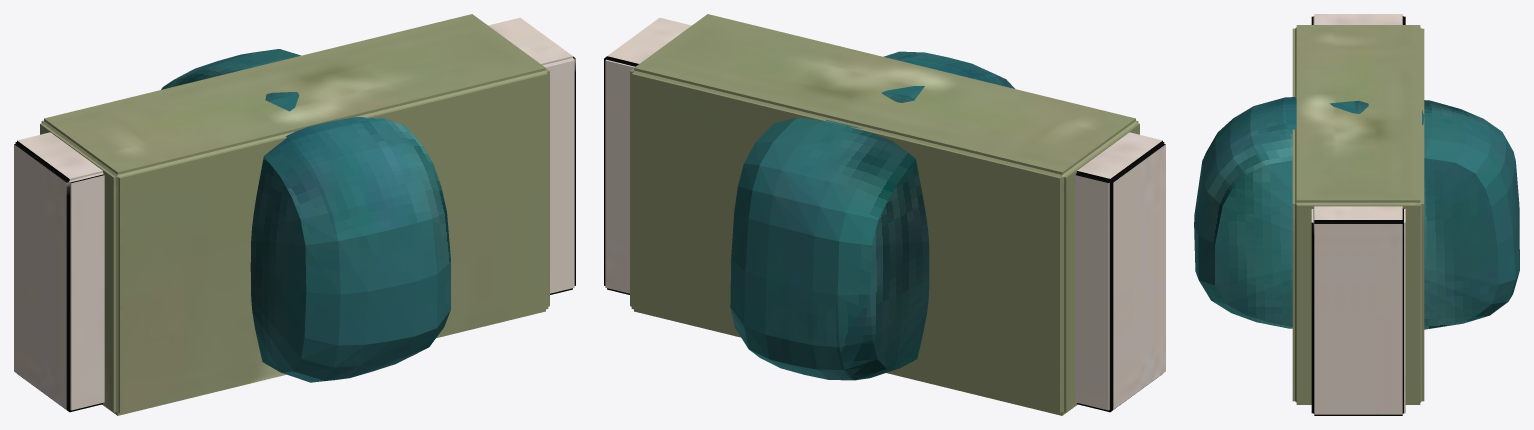
Rendered from slope-release-textures.glb.
3 views of the same model, side by side, from view 1: azimuth 30°, elevation 25°; view 2: azimuth 150°, elevation 25°; view 3: azimuth 270°, elevation 25° (orthographic). The views are drawn at different scales.
Parts seen in each view (by area): view 1: green_collision, blue_collision, white_collision; view 2: green_collision, blue_collision, white_collision; view 3: blue_collision, green_collision, white_collision.
Part boxes in pixels (x1,y1,x2,y2): green_collision: (40, 14, 549, 415); blue_collision: (161, 49, 450, 382); white_collision: (14, 17, 575, 412); green_collision: (630, 14, 1139, 415); blue_collision: (730, 51, 1014, 380); white_collision: (604, 17, 1165, 412); blue_collision: (1194, 97, 1519, 329); green_collision: (1292, 25, 1424, 404); white_collision: (1311, 14, 1405, 415).
Size of the model in its own units: 0.105 by 0.0481 by 0.0694.
3 materials, 3 textured.
